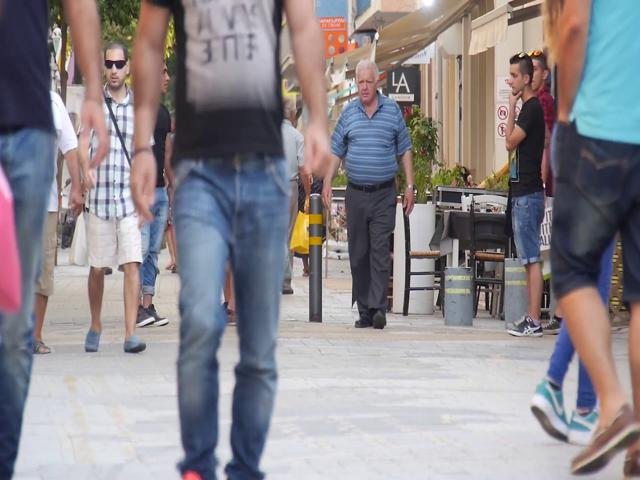shoe: (571, 404, 638, 474), (529, 380, 569, 442), (507, 317, 543, 336), (85, 322, 101, 352), (135, 305, 155, 328), (124, 336, 146, 353)
